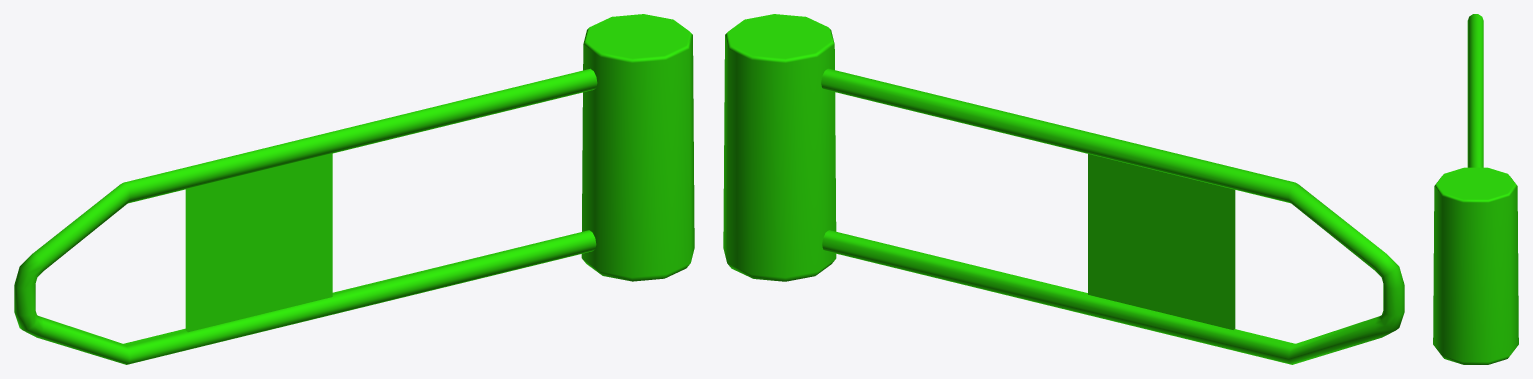
The model's file is Supermarket_Fence_01_Door_Lod0.fbx.
3 renders of one model, left to right at view 1: azimuth 30°, elevation 25°; view 2: azimuth 150°, elevation 25°; view 3: azimuth 270°, elevation 25°, orthographic. The views are drawn at different scales.
Parts seen in each view (by area): view 1: Supermarket_Fence_01_Door_Lod0; view 2: Supermarket_Fence_01_Door_Lod0; view 3: Supermarket_Fence_01_Door_Lod0.
Part boxes in pixels (box(x1,y1,x2,y2)): Supermarket_Fence_01_Door_Lod0: box(14, 14, 694, 364); Supermarket_Fence_01_Door_Lod0: box(723, 14, 1404, 364); Supermarket_Fence_01_Door_Lod0: box(1433, 14, 1518, 364).
Bounding box in the file's own units: 76.28 × 24.28 × 11.39.
